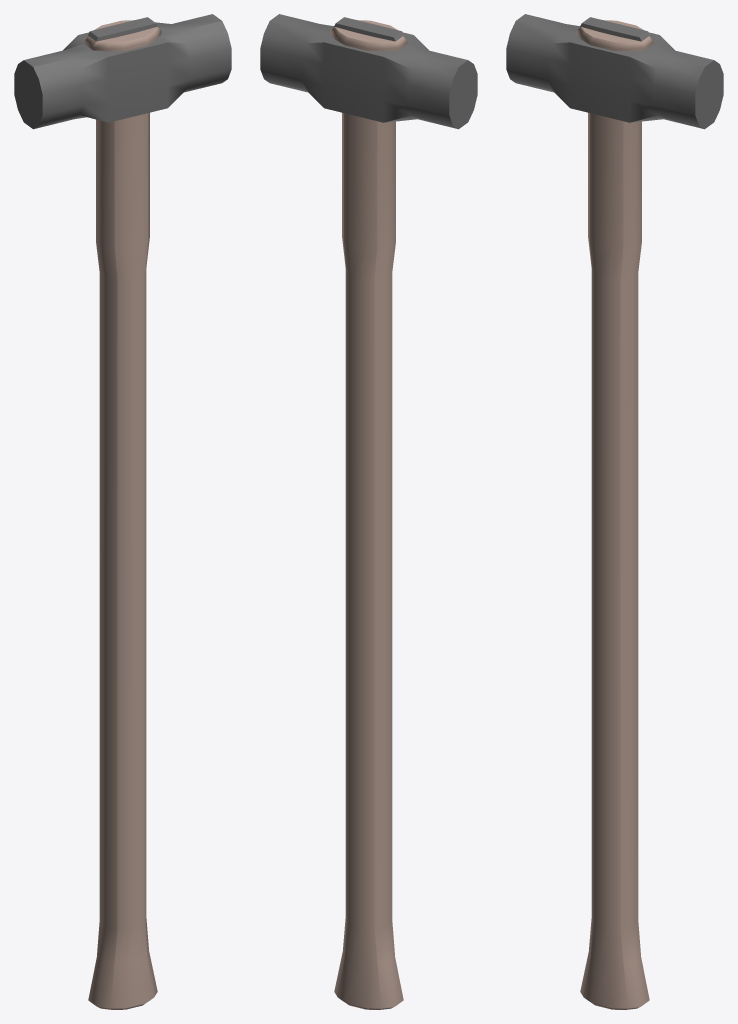
Rendered from Sledgehammer.fbx.
3 renders of one model, left to right at view 1: azimuth 30°, elevation 25°; view 2: azimuth 150°, elevation 25°; view 3: azimuth 330°, elevation 25°, orthographic.
Visible parts, largest first — view 1: pCube3; view 2: pCube3; view 3: pCube3.
Boxes of the visible parts, <box> form: pCube3: <box>14,14,231,1009</box>; pCube3: <box>260,14,477,1009</box>; pCube3: <box>506,14,723,1009</box>.
Bounding box in the file's own units: 3 × 14.76 × 0.8246.
